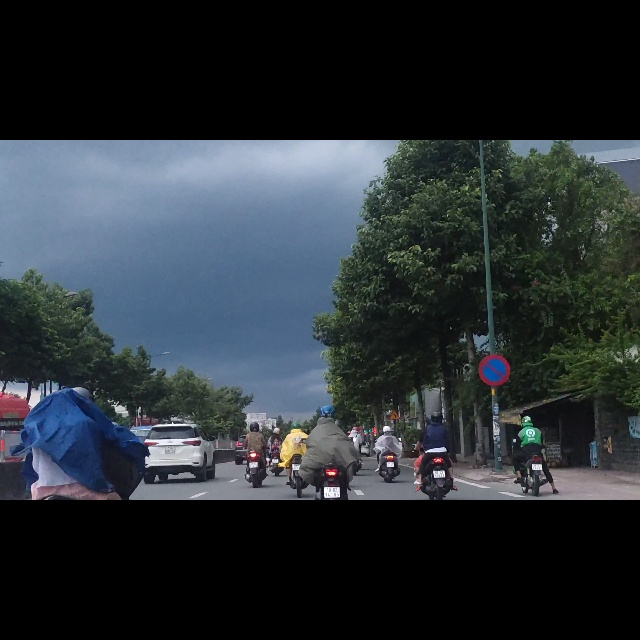bien_cam: (478, 379, 510, 437), (389, 479, 400, 498)
